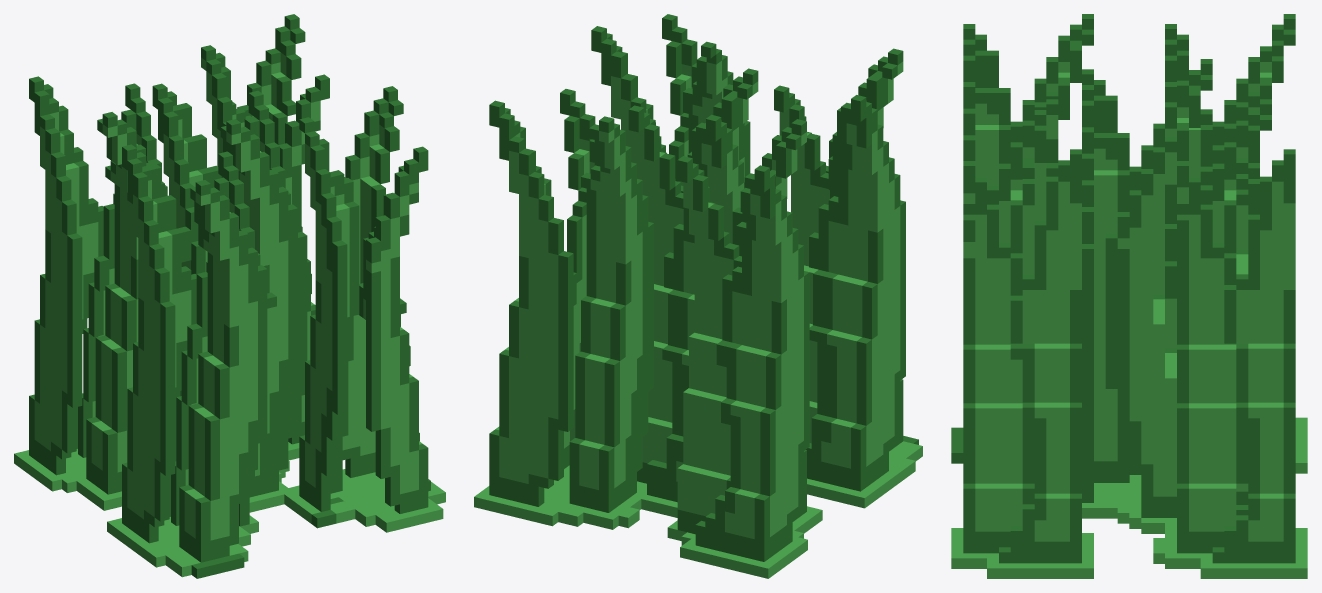
Rendered from grass 2 collectible.fbx.
The picture shows the model from 3 angles, left to right: view 1: azimuth 30°, elevation 25°; view 2: azimuth 150°, elevation 25°; view 3: azimuth 270°, elevation 25°; orthographic projection. The views are drawn at different scales.
Visible parts, largest first — view 1: Untitled; view 2: Untitled; view 3: Untitled.
Boxes of the visible parts, x1,y1,x2,y2 form: Untitled: (14, 14, 445, 578); Untitled: (474, 14, 922, 578); Untitled: (951, 14, 1307, 578).
Size of the model in its own units: 300 by 390 by 300.
